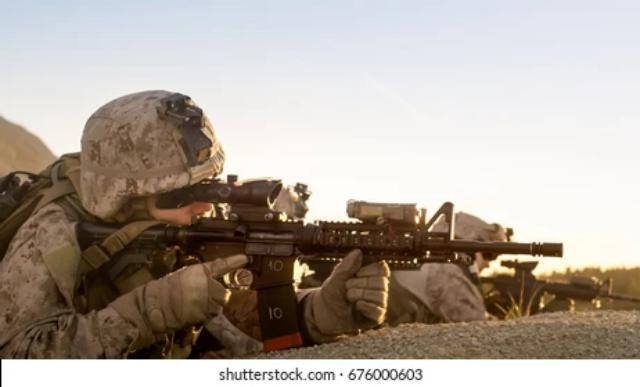other: (0, 84, 286, 361), (378, 210, 514, 322)
